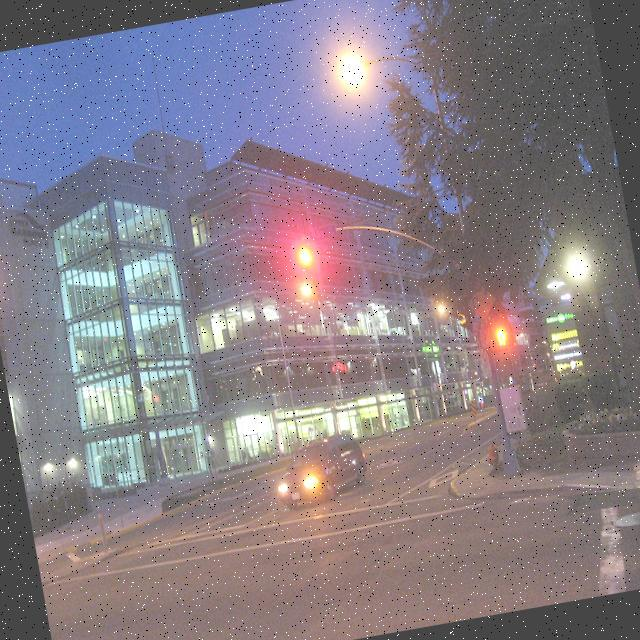fire_hydrant: (484, 440, 502, 474)
